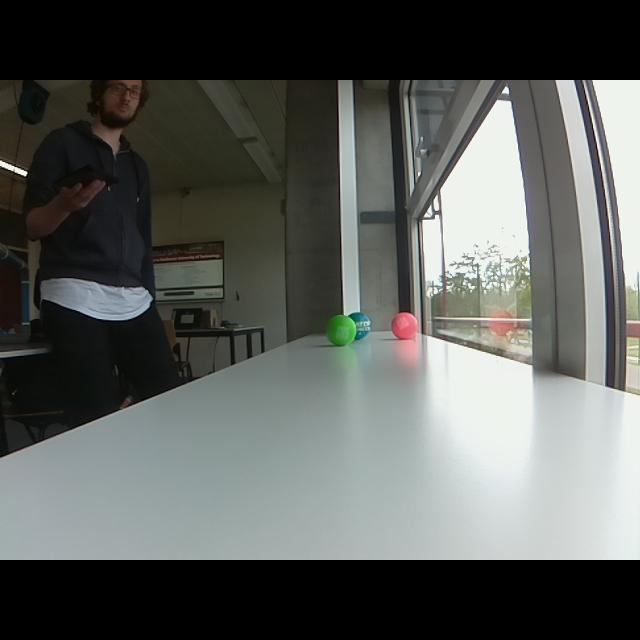ball: (322, 313, 358, 348), (390, 310, 421, 343)
